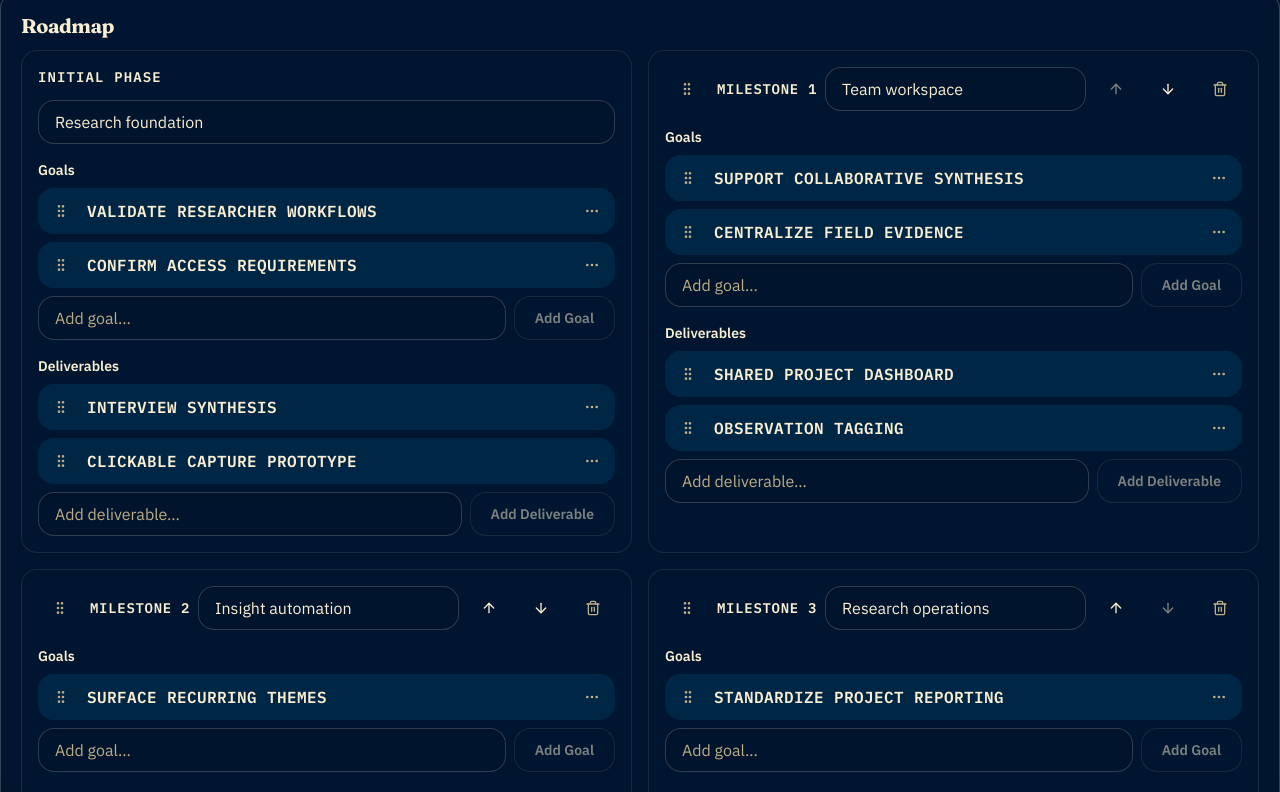
Test: RoadmapCard › moves goals and deliverables to adjacent phases and announces removals
Step 1. Click the button named "Actions for goal Confirm access requirements, phase 1, item 2" → x=592, y=265, box [570, 243, 614, 287]
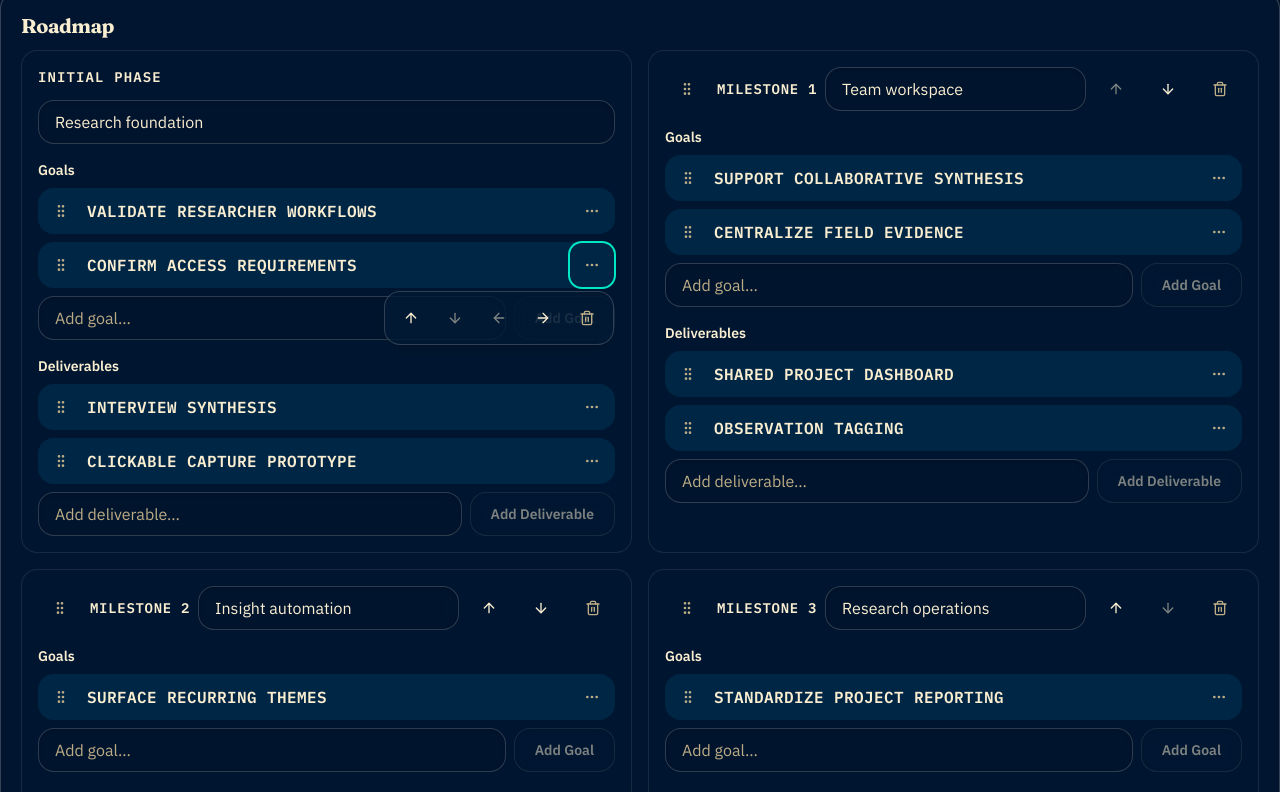
Step 2. Click the button named "Move goal Confirm access requirements, phase 1, item 2 to next phase" → x=543, y=318, box [521, 296, 565, 340]
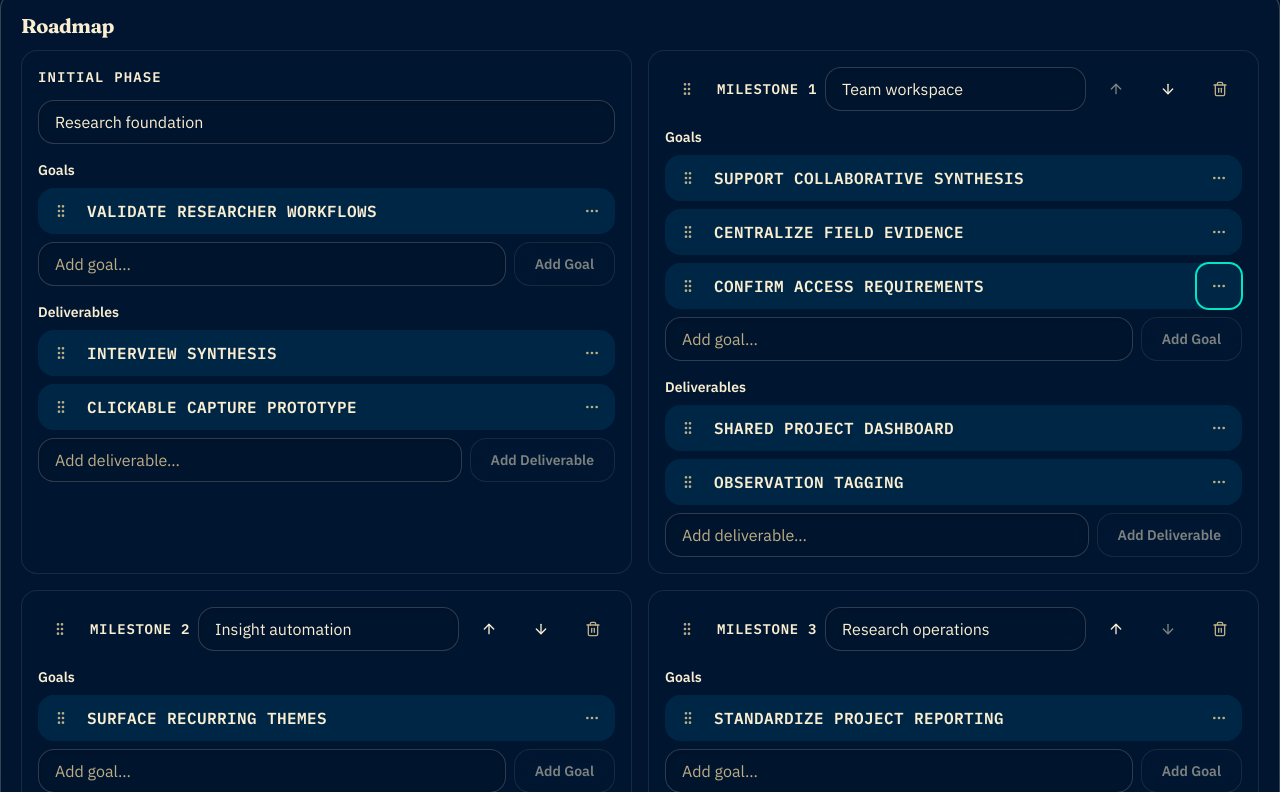
Step 3. Click the button named "Actions for deliverable Shared project dashboard, phase 2, item 1" → x=1219, y=428, box [1197, 406, 1241, 450]
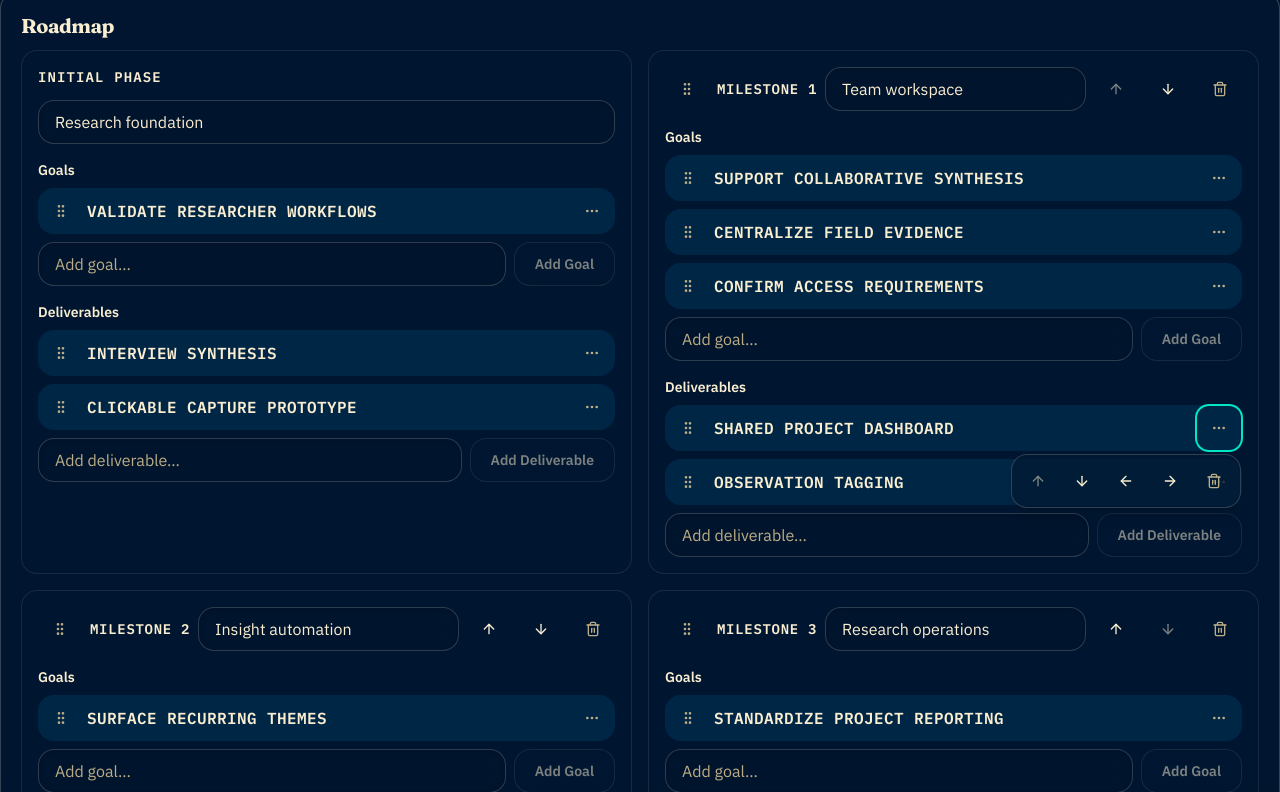
Step 4. Click the button named "Move deliverable Shared project dashboard, phase 2, item 1 to previous phase" → x=1126, y=481, box [1104, 459, 1148, 503]
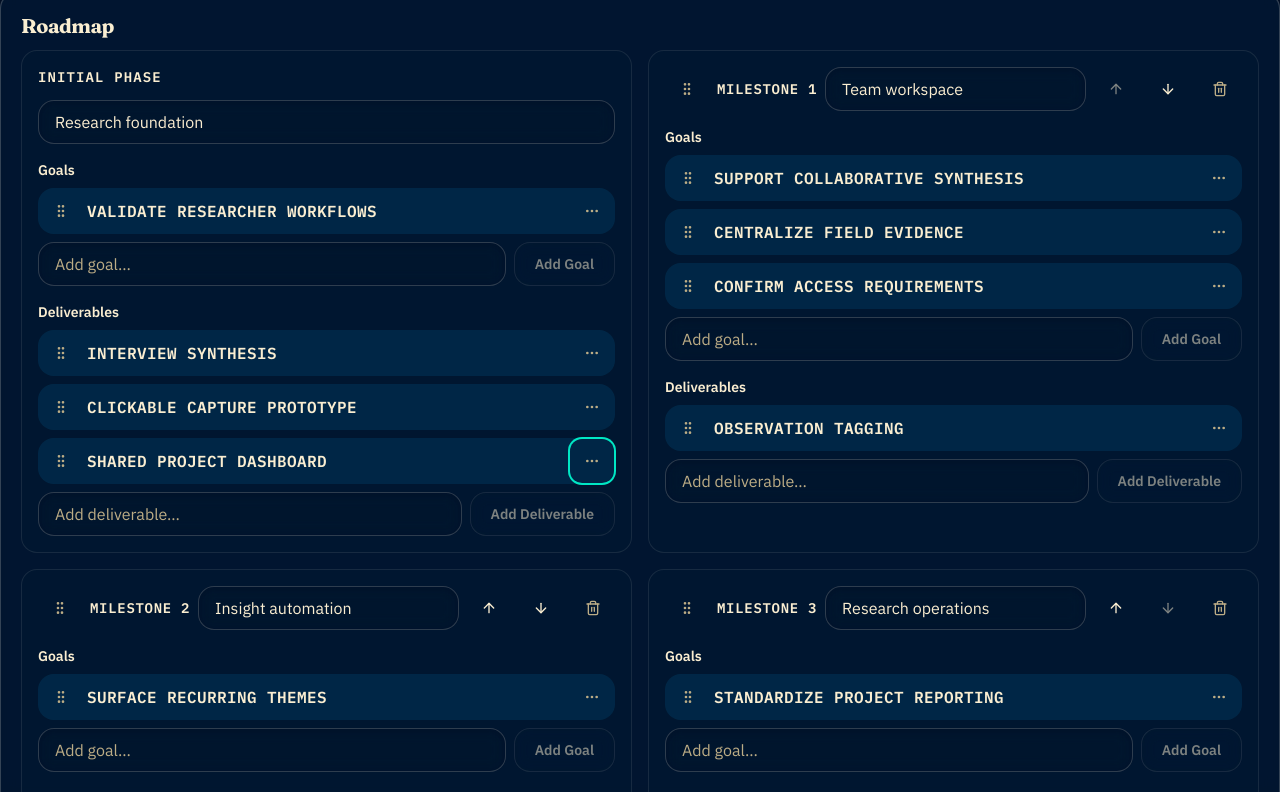
Step 5. Click the button named "Actions for deliverable Observation tagging, phase 2, item 1" → x=1219, y=428, box [1197, 406, 1241, 450]
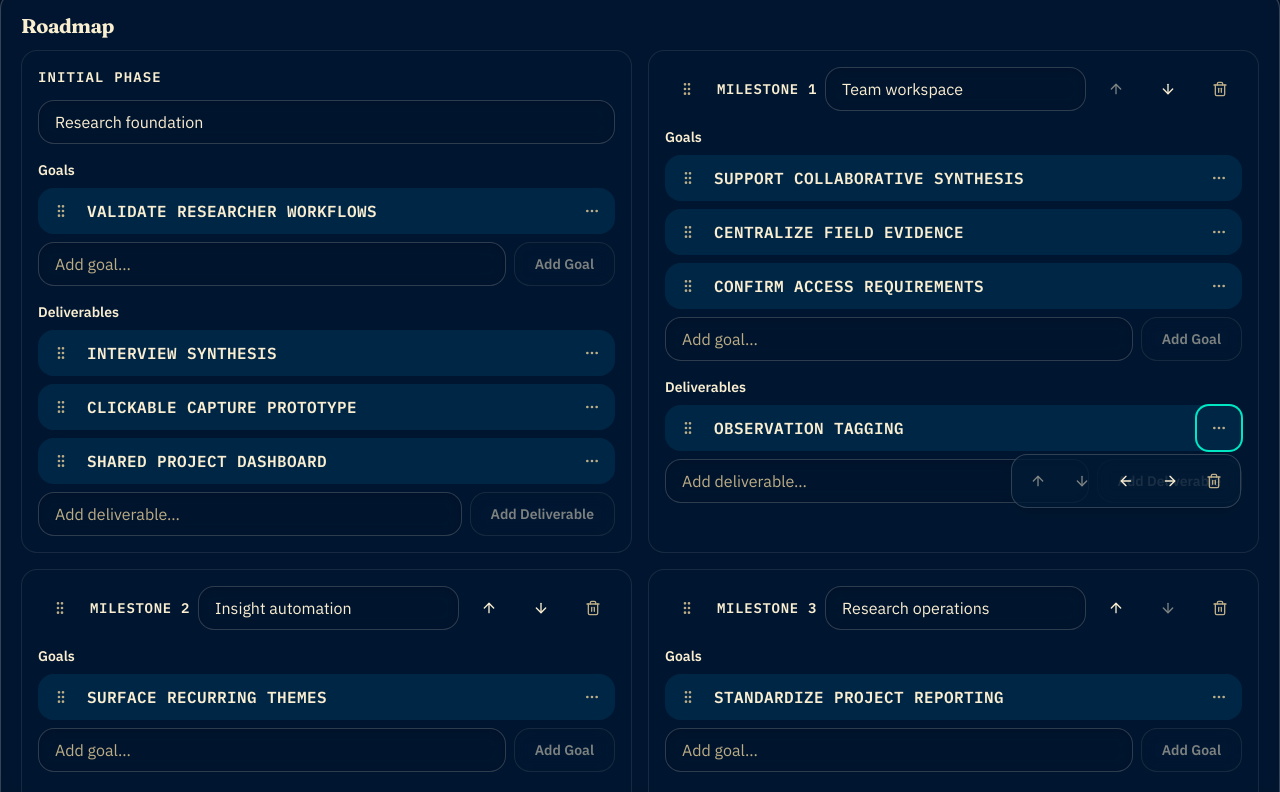
Step 6. Click the button named "Remove deliverable Observation tagging, phase 2, item 1" → x=1214, y=481, box [1192, 459, 1236, 503]
(page scrolled)
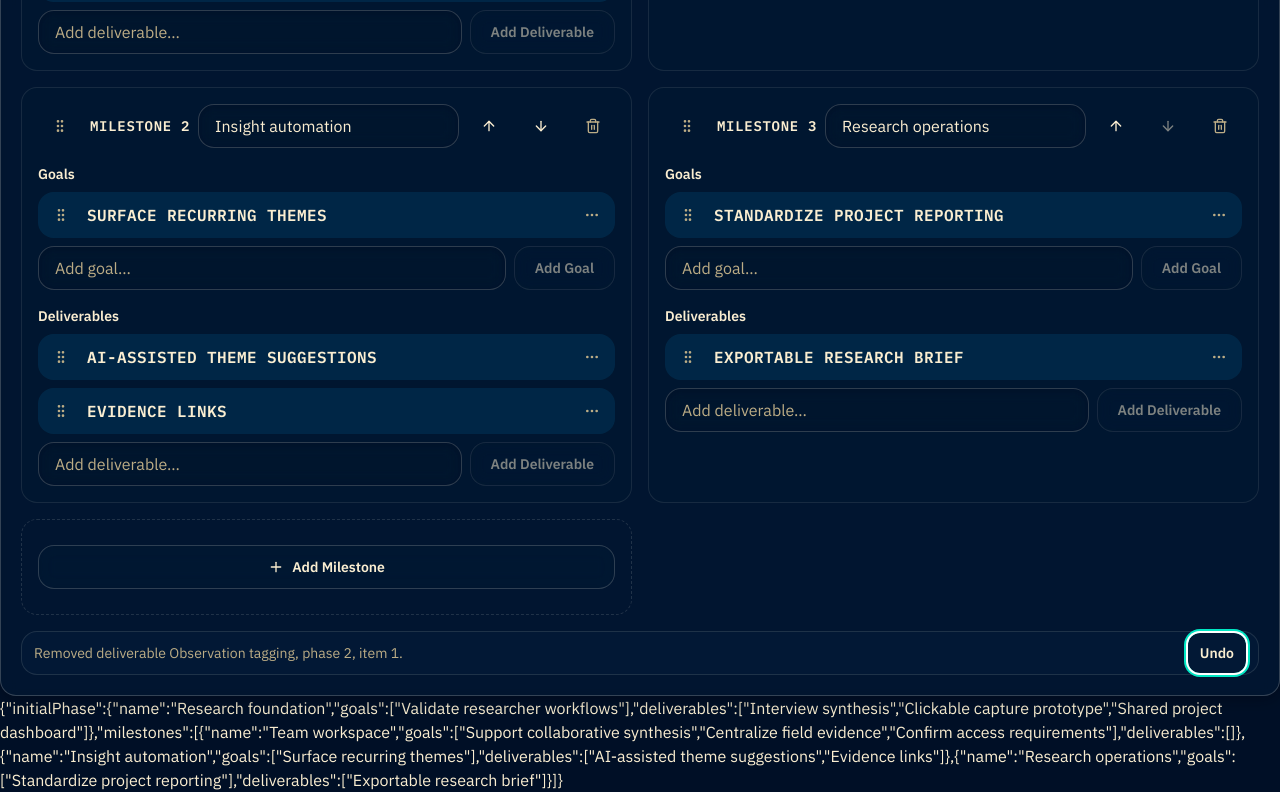
Now the message shows "Removed deliverable Observation tagging, phase 2, item 1.", box [34, 644, 403, 662]
